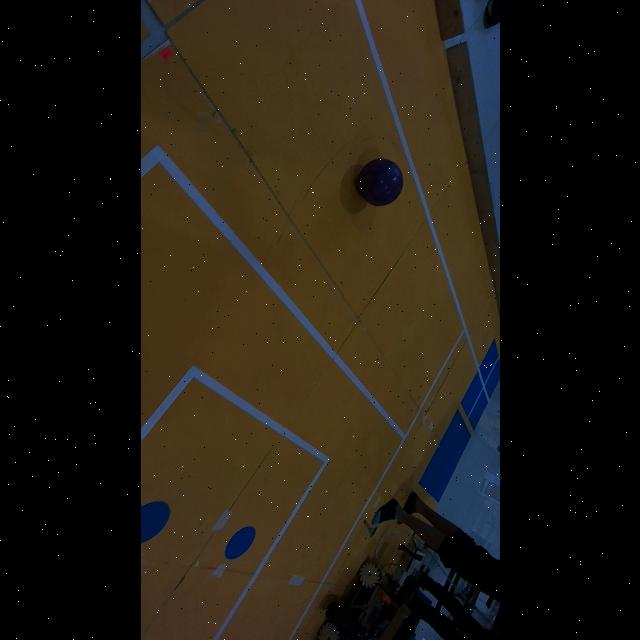P: (356, 159, 403, 207)
